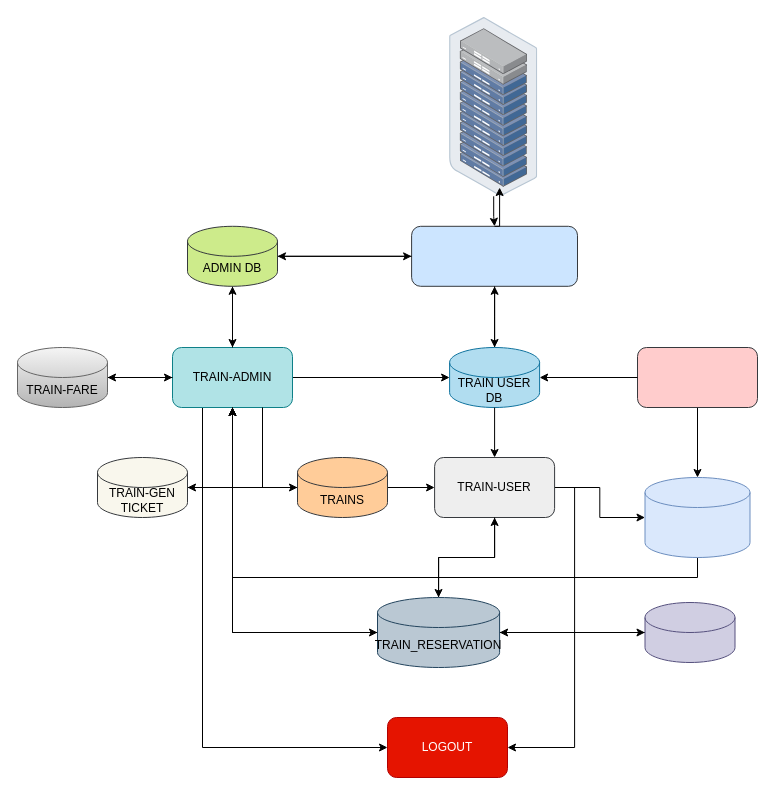
Some shapes in this 775 by 795 pixel diagram are drawn without their labels. Each missing label, with the box of its shape:
NEW USER REGISTER: (636, 346, 758, 408)
TRAIN _FEEDBACK: (644, 476, 750, 558)
TRAIN _SITTING: (644, 602, 735, 662)
TRAIN TICKET RESERVATION: (411, 225, 578, 286)
